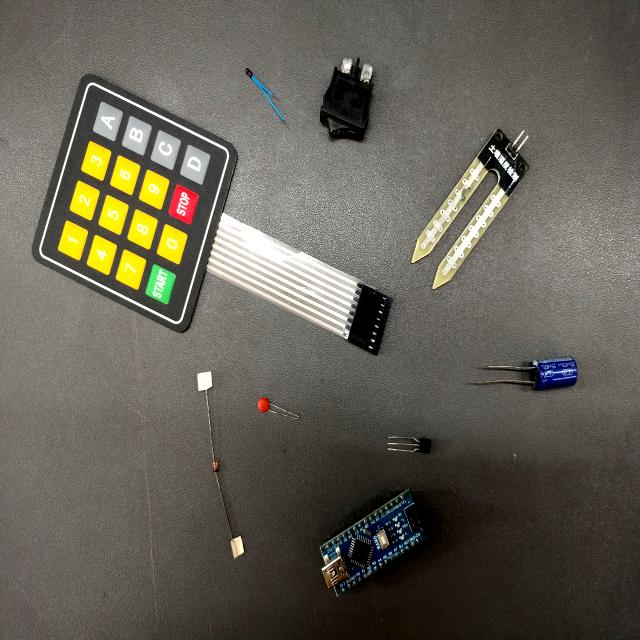capacitor: (503, 358, 578, 391), (257, 396, 273, 414)
